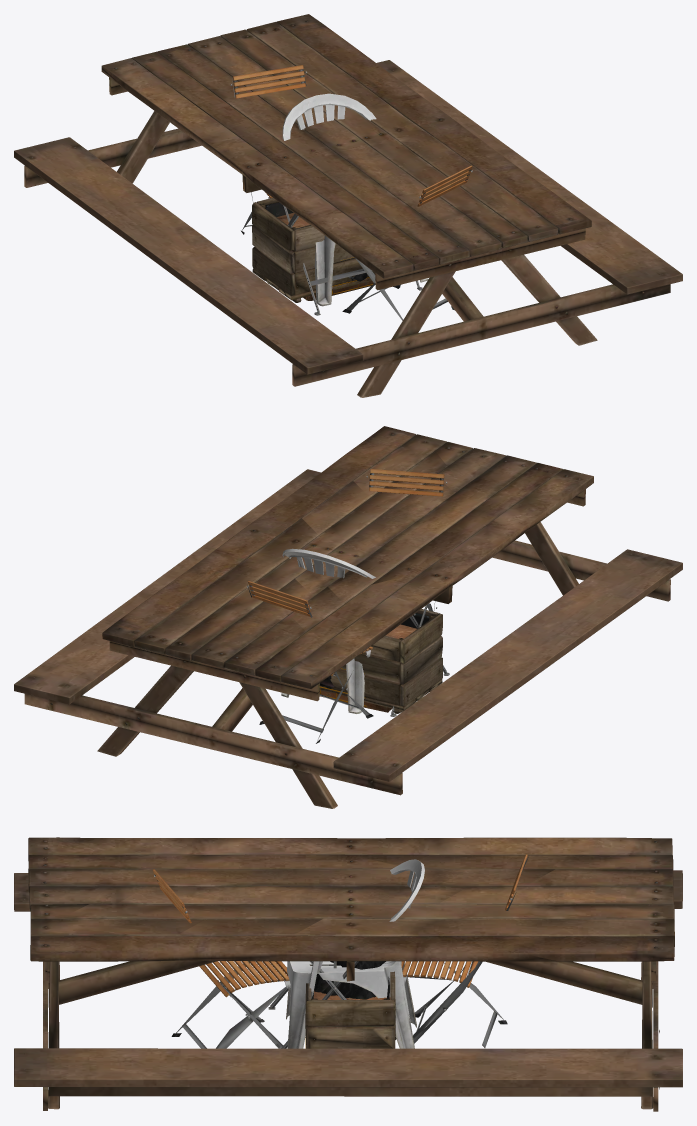
Rendered from props.glb.
3 renders of one model, top to bottom at view 1: azimuth 30°, elevation 25°; view 2: azimuth 150°, elevation 25°; view 3: azimuth 270°, elevation 25°, orthographic. The views are drawn at different scales.
Parts seen in each view (by area): view 1: wooden_picnic_table, planter_box_01, plastic_monobloc_chair_01, outdoor_table_chair_set_01_chair_01, outdoor_table_chair_set_01_table; view 2: wooden_picnic_table, planter_box_01, outdoor_table_chair_set_01_chair_01, plastic_monobloc_chair_01, wooden_crate_01_lid; view 3: wooden_picnic_table, outdoor_table_chair_set_01_chair_01, plastic_monobloc_chair_01, planter_box_01, trashbag, outdoor_table_chair_set_01_table.
Boxes of the visible parts, <box> form: wooden_picnic_table: <box>14,14,682,397</box>; planter_box_01: <box>252,198,375,302</box>; plastic_monobloc_chair_01: <box>282,93,428,306</box>; outdoor_table_chair_set_01_chair_01: <box>230,65,472,320</box>; outdoor_table_chair_set_01_table: <box>283,205,422,315</box>; wooden_picnic_table: <box>14,426,682,808</box>; planter_box_01: <box>319,609,442,713</box>; outdoor_table_chair_set_01_chair_01: <box>247,469,447,743</box>; plastic_monobloc_chair_01: <box>281,548,415,713</box>; wooden_crate_01_lid: <box>319,624,416,712</box>; wooden_picnic_table: <box>14,837,682,1111</box>; outdoor_table_chair_set_01_chair_01: <box>153,854,529,1048</box>; plastic_monobloc_chair_01: <box>286,859,424,1048</box>; planter_box_01: <box>305,965,396,1048</box>; trashbag: <box>314,961,396,1039</box>; outdoor_table_chair_set_01_table: <box>268,961,358,1048</box>.
Size of the model in its own units: 2.24 by 0.886 by 3.02.
Materials: 13 (13 with a texture image).
